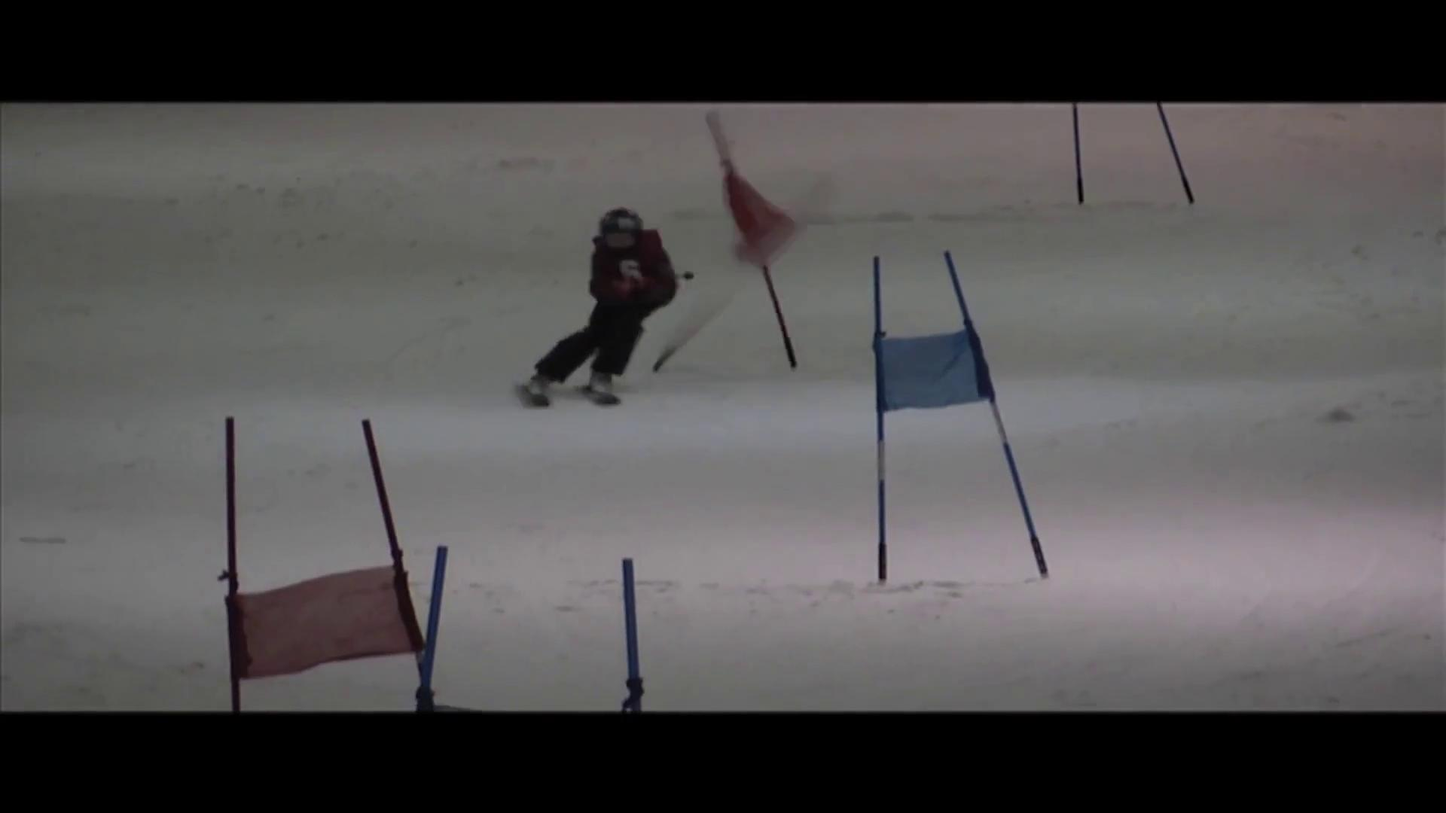gate: (871, 251, 1048, 581), (362, 419, 441, 710), (218, 416, 239, 625), (433, 549, 444, 589), (231, 656, 239, 711)
